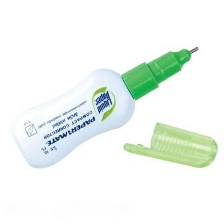correction_fluid: (9, 41, 201, 170)
